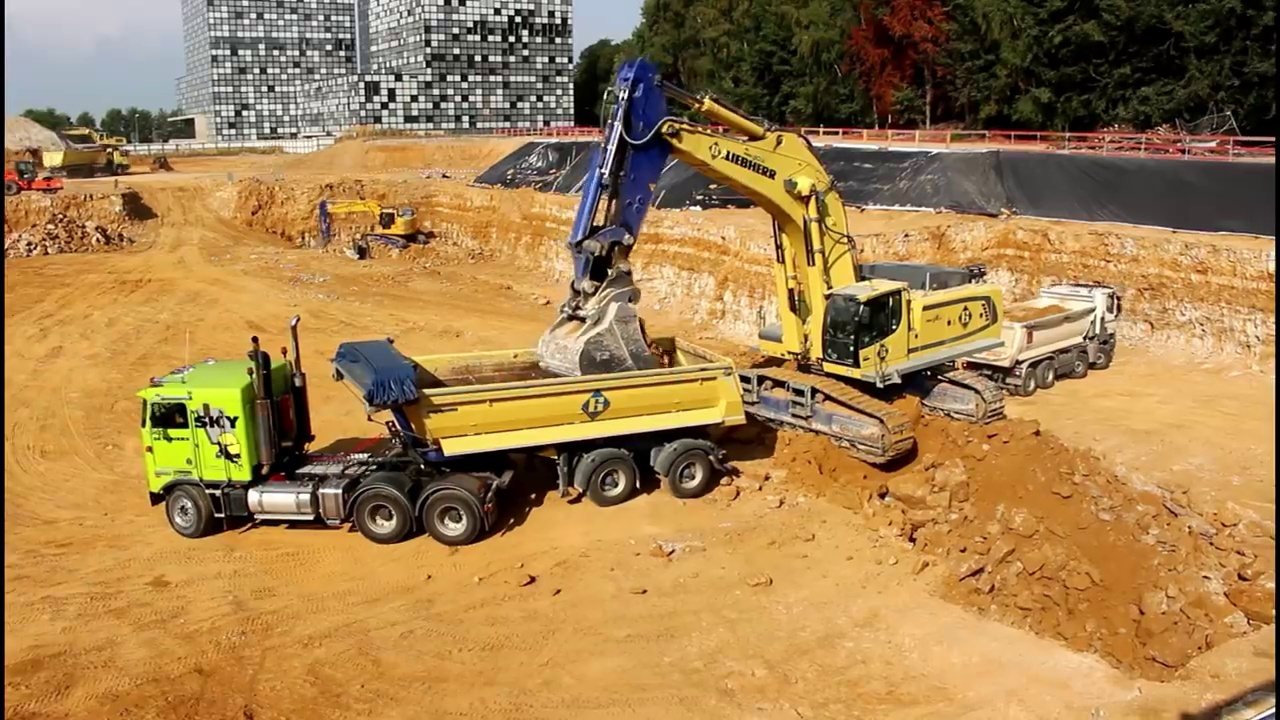compactor: (4, 159, 68, 200)
excavator: (530, 54, 1012, 469), (312, 190, 439, 258), (56, 120, 130, 155)
truck: (132, 313, 753, 555), (952, 275, 1132, 395), (47, 148, 135, 183)
